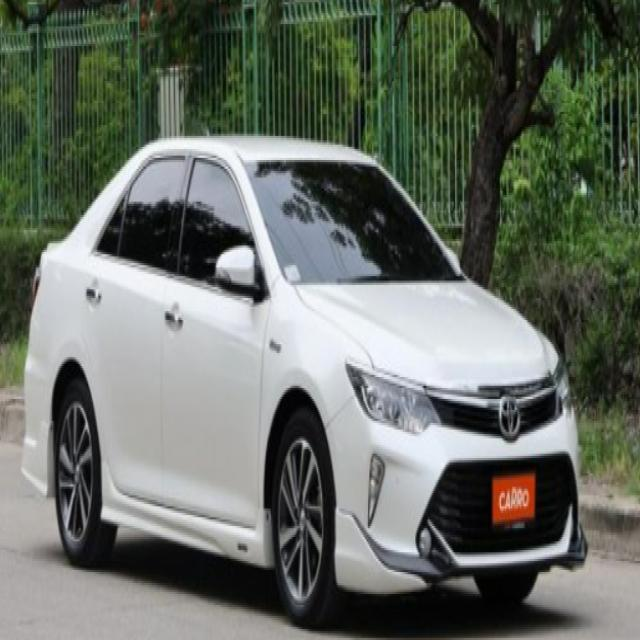Sedan: (6, 75, 607, 623)
